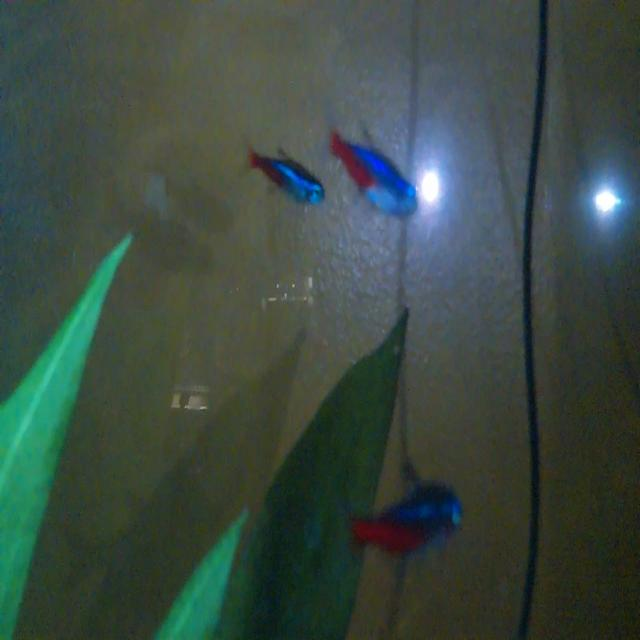fish: (353, 456, 466, 562), (322, 108, 420, 226), (240, 126, 329, 215)
